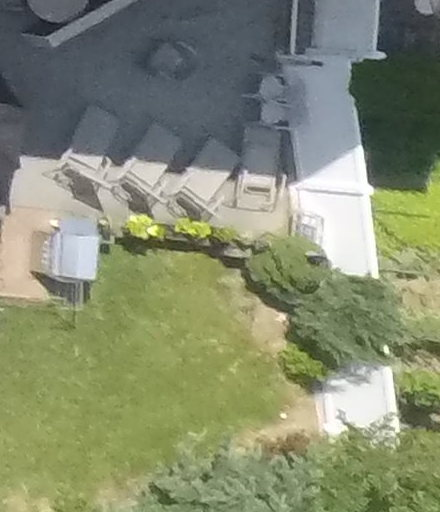chair: (51, 89, 122, 204), (167, 116, 238, 226), (122, 100, 172, 213)
